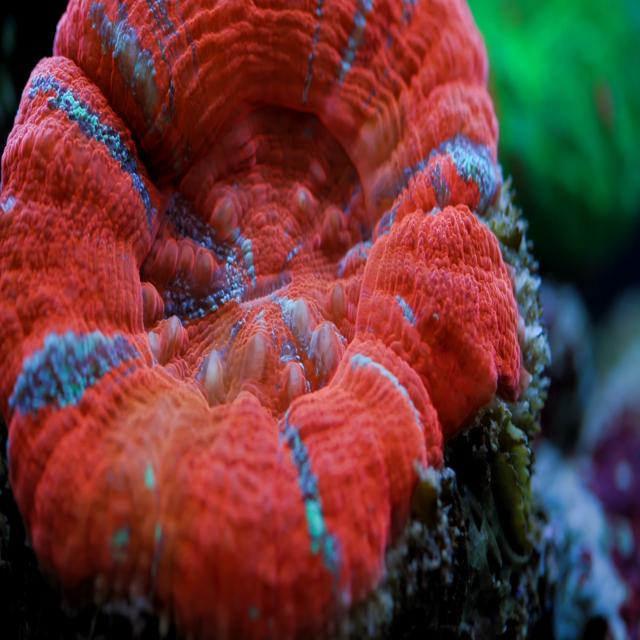Scolymia-Vitiensis -Poisonous-: (0, 0, 525, 634)
